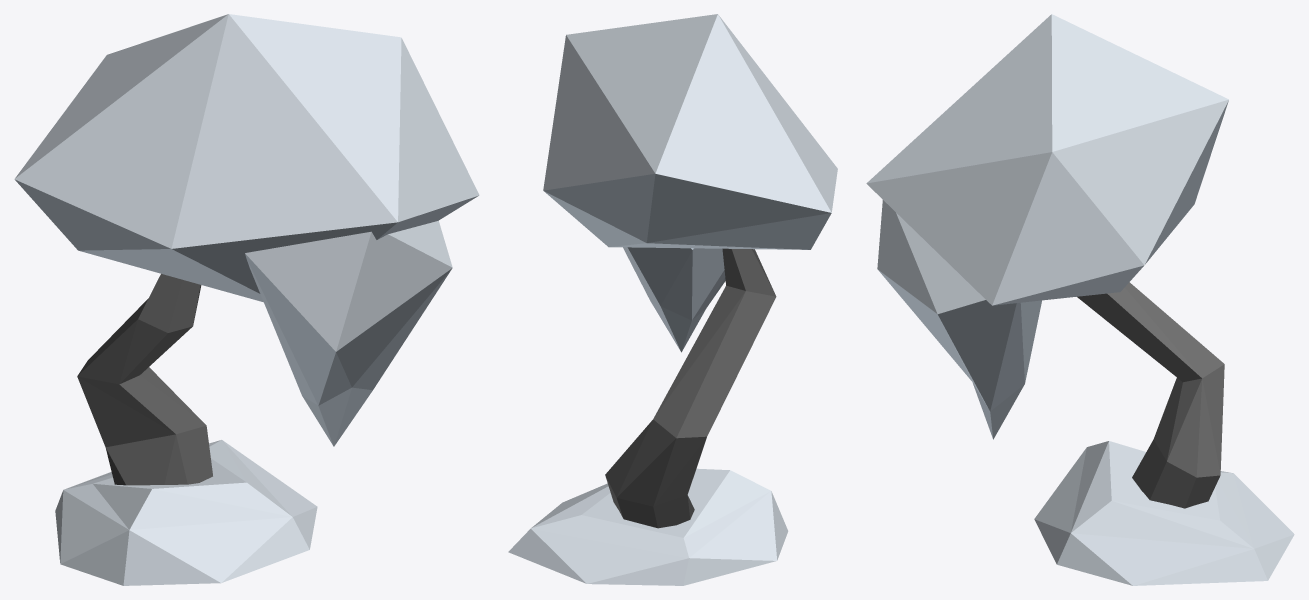
Rendered from TreeWinter3_Alt1.fbx.
3 views of the same model, side by side, from view 1: azimuth 30°, elevation 25°; view 2: azimuth 150°, elevation 25°; view 3: azimuth 270°, elevation 25° (orthographic). The views are drawn at different scales.
Parts seen in each view (by area): view 1: TreeWinter3_Alt1; view 2: TreeWinter3_Alt1; view 3: TreeWinter3_Alt1.
Part boxes in pixels (x1,y1,x2,y2): TreeWinter3_Alt1: (14,14,479,585); TreeWinter3_Alt1: (508,14,837,585); TreeWinter3_Alt1: (866,14,1294,585).
Bounding box in the file's own units: 1.24 × 1.69 × 1.28.
